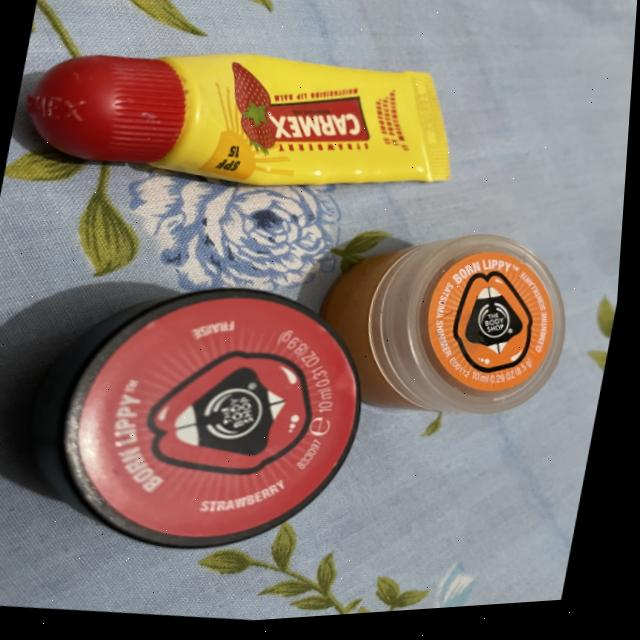Tint: (6, 0, 500, 241)
lip shade: (0, 181, 621, 633)
